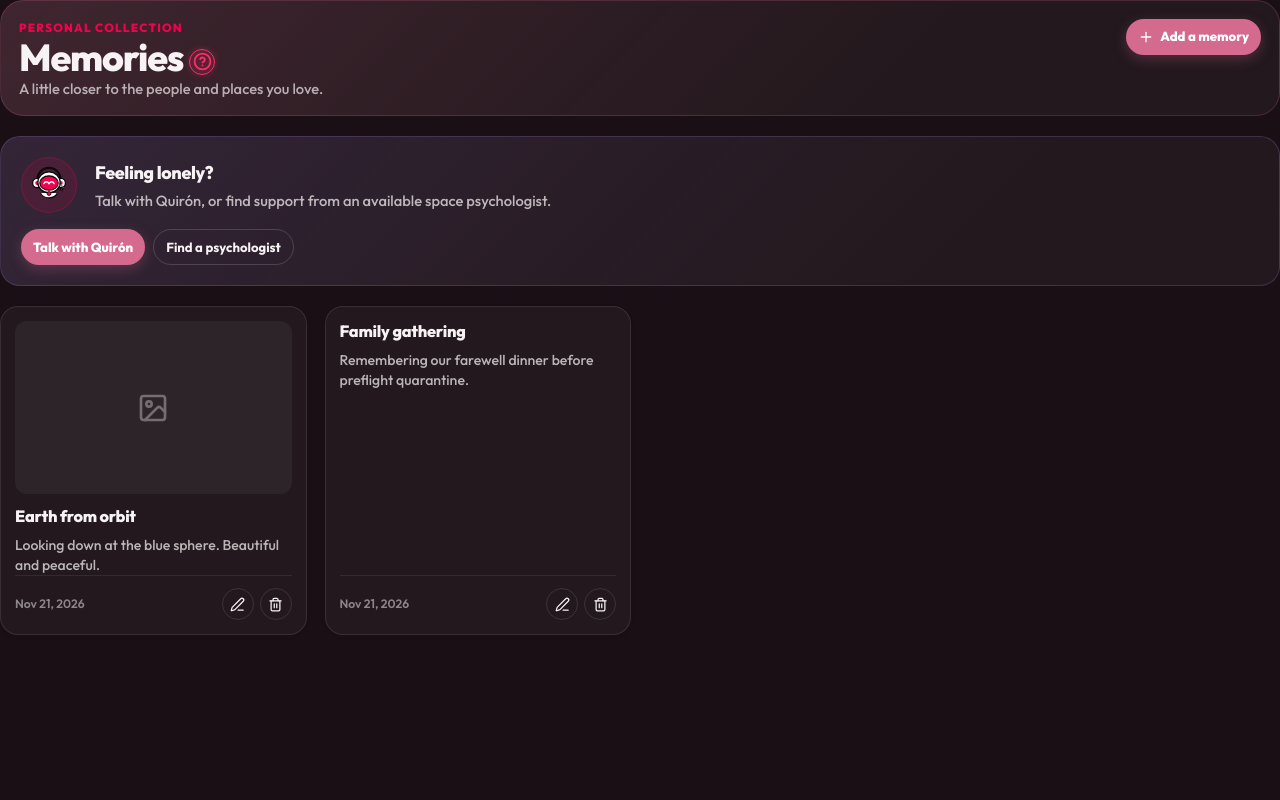
Test: MemoriesPage › respects stage restrictions when mission is not in flight
This screenshot has width=1280, height=800.
Expected: the heading "Earth from orbit" is shown, [15,506,136,526]
Note: Click Find a psychologist
Click the button "Find a psychologist" at (224, 247), box [153,229,294,265]
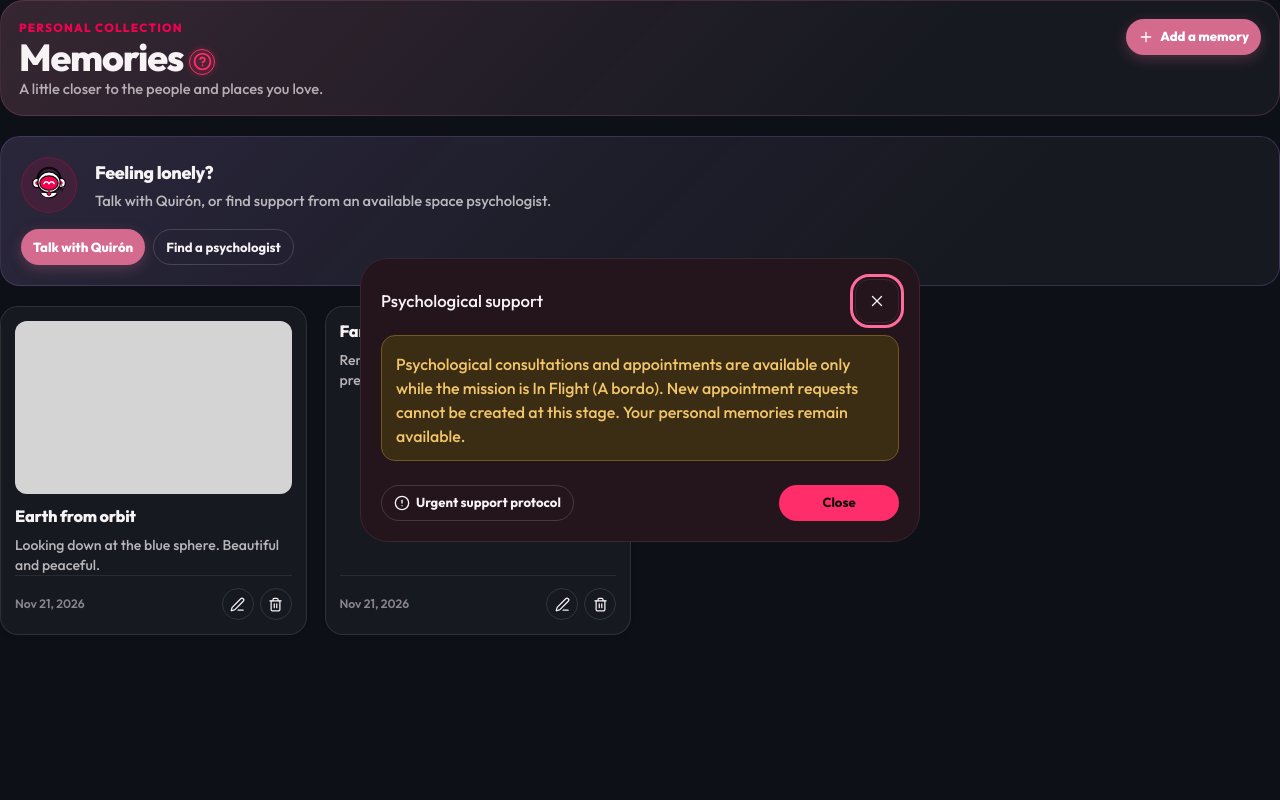
Now the text "Psychological consultations and appointments are available only while the mission is In Flight" is shown, box [396,354,858,446]
